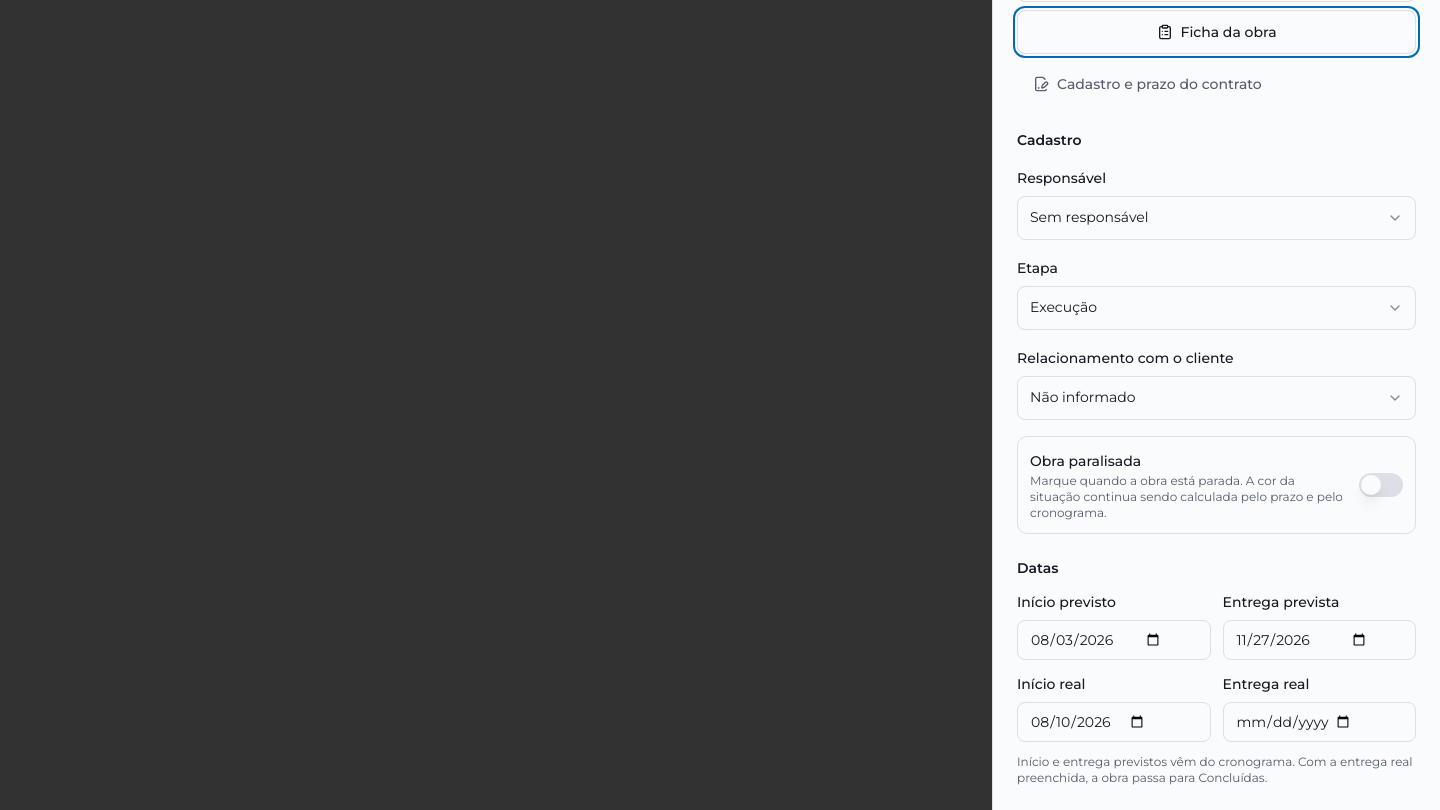
Test case: ObraDrawer › cancelar a confirmação não grava e devolve a data
The image size is (1440, 810).
(page scrolled)
Step 1. Type "2026-12-04" into the date field labelled "Entrega prevista" → coordinates (1319, 640), box x1=1222 y1=620 x2=1416 y2=660
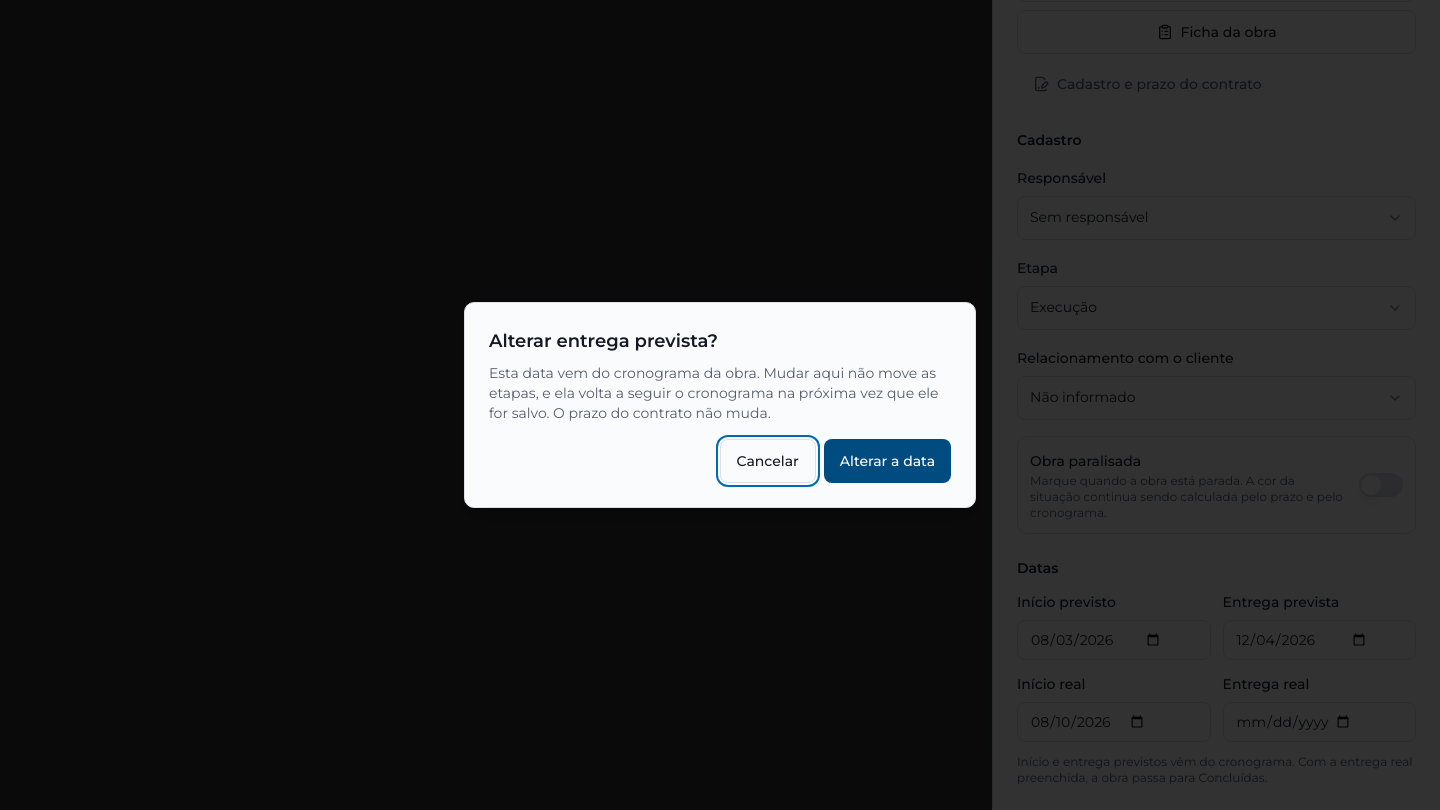
Step 2. Click the button "Cancelar" → coordinates (768, 461), box x1=720 y1=439 x2=816 y2=483
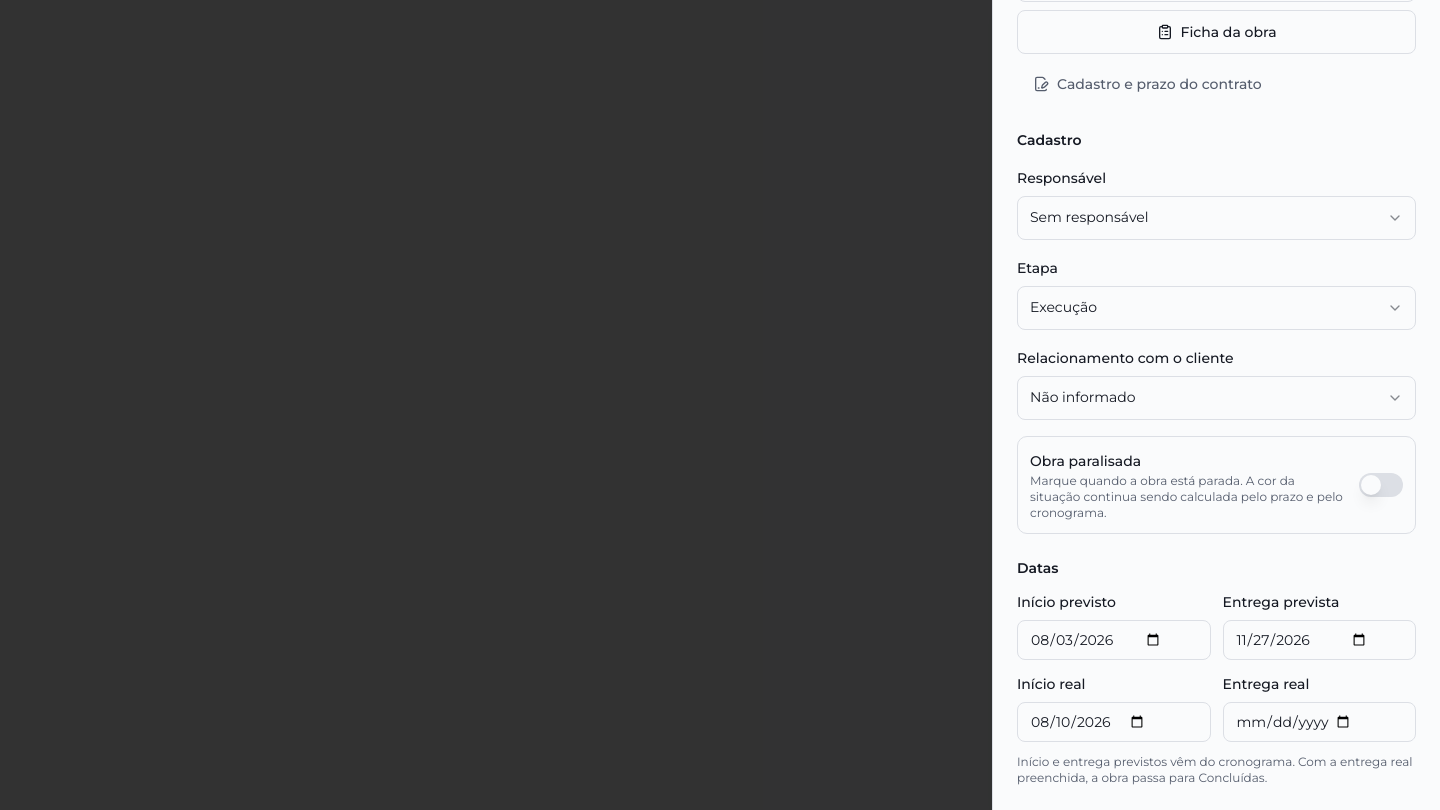
Now the date field labelled "Entrega prevista" holds "2026-11-27", box x1=1222 y1=620 x2=1416 y2=660
